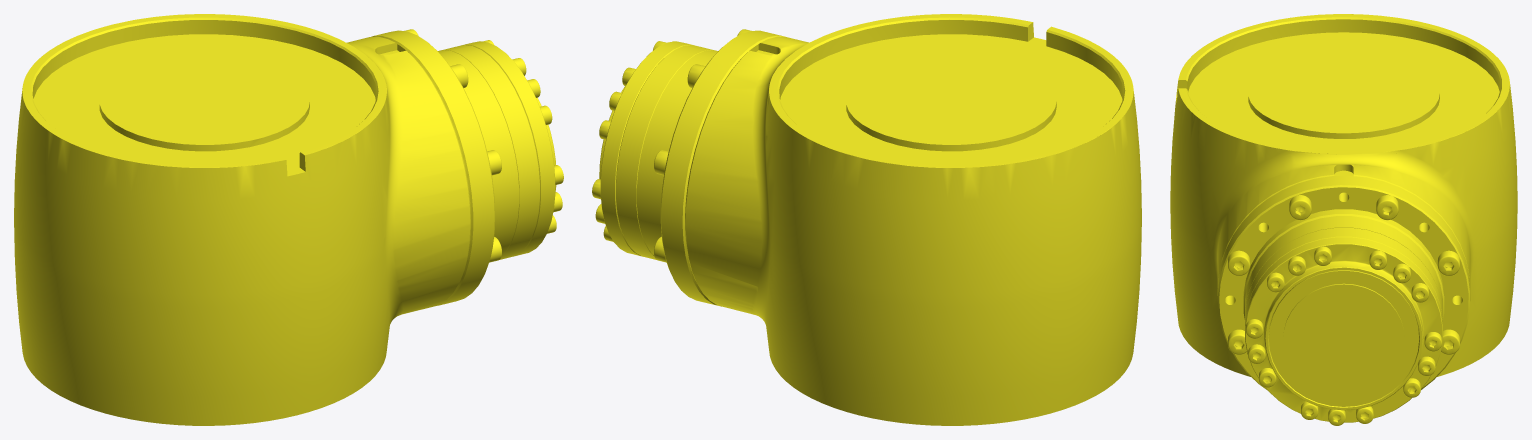
3 views of the same model, side by side, from view 1: azimuth 30°, elevation 25°; view 2: azimuth 150°, elevation 25°; view 3: azimuth 270°, elevation 25° (orthographic). The views are drawn at different scales.
Visible parts, largest first — view 1: /Link5/Link5_001-mesh/0; view 2: /Link5/Link5_001-mesh/0; view 3: /Link5/Link5_001-mesh/0.
Part boxes in pixels (x1=…): /Link5/Link5_001-mesh/0: x1=14, y1=14, x2=563, y2=425; /Link5/Link5_001-mesh/0: x1=592, y1=14, x2=1141, y2=425; /Link5/Link5_001-mesh/0: x1=1170, y1=14, x2=1517, y2=425.
Size of the model in its own units: 0.1562 by 0.081 by 0.1085.
